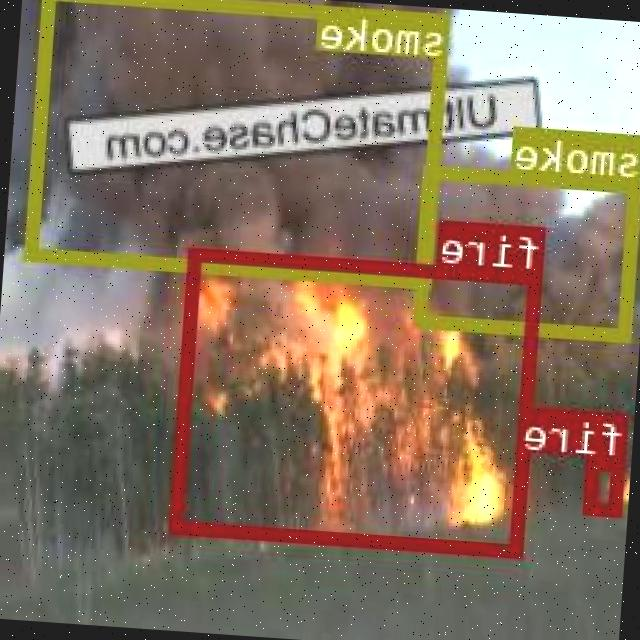fire: (172, 245, 544, 555), (586, 454, 628, 516)
smoke: (29, 0, 452, 285), (415, 163, 640, 339)
